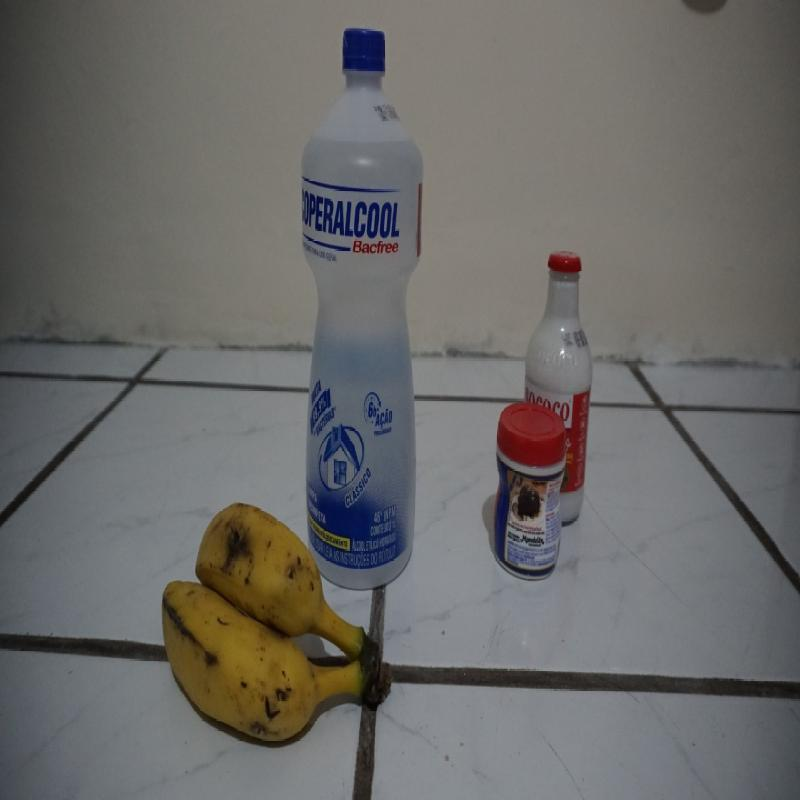Alcohol Bottle: (297, 31, 425, 497)
Banana: (160, 505, 392, 745)
Coconut Milk: (528, 250, 594, 400)
Yeast: (494, 405, 566, 576)
